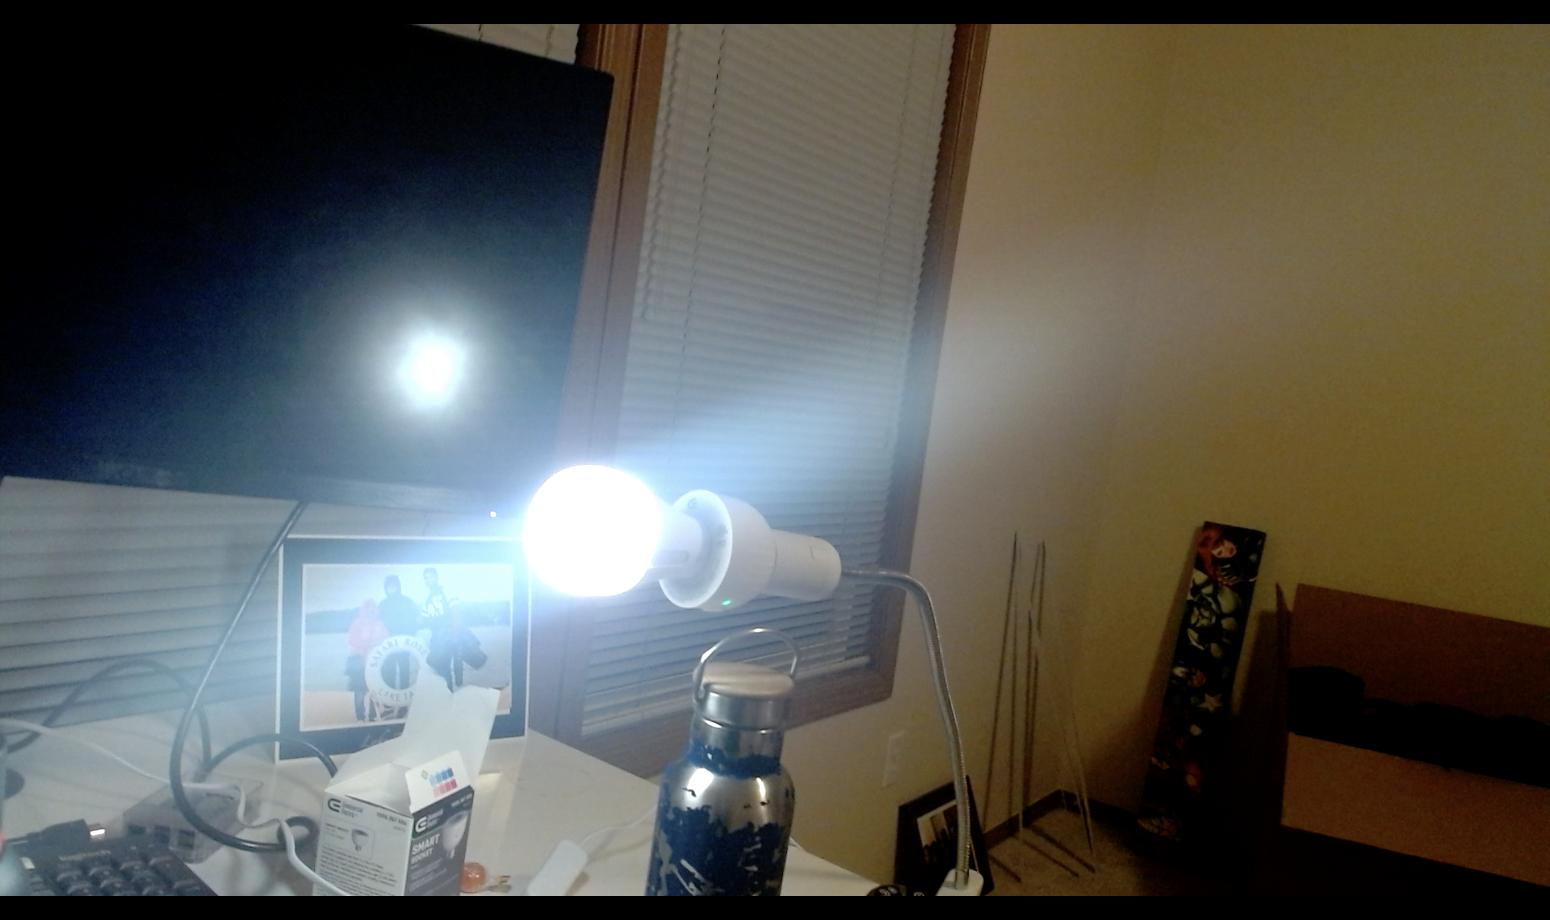TubeLight: (519, 463, 705, 597)
